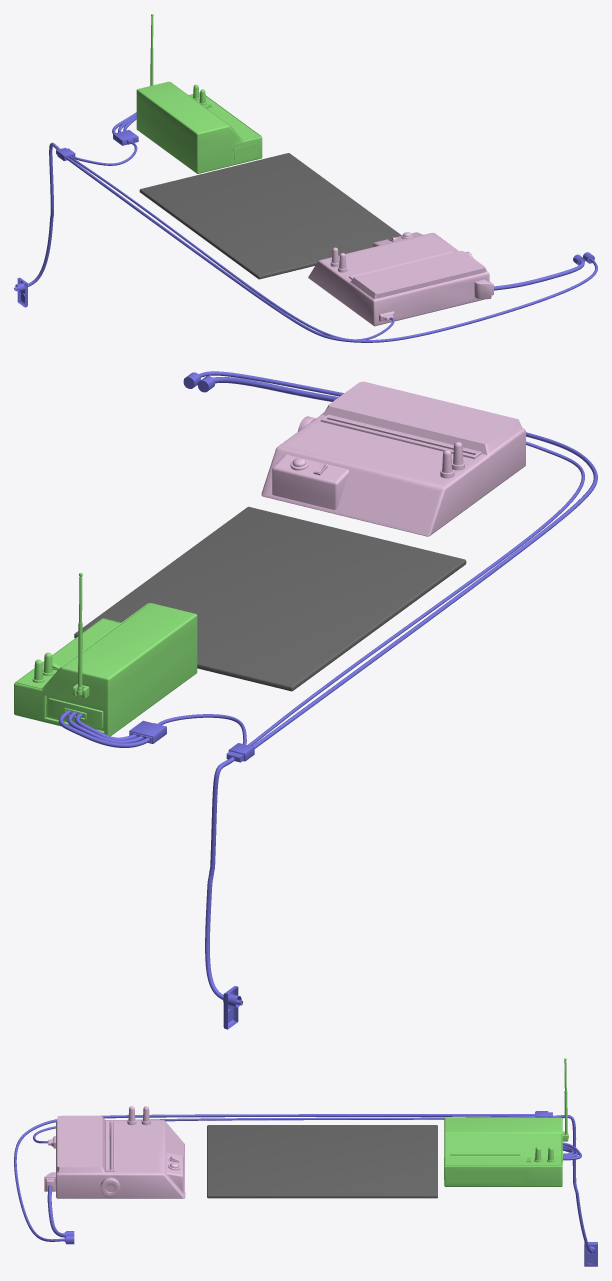
Rendered from ROOMSTATIONS.fbx.
3 views of the same model, one above another, from view 1: azimuth 30°, elevation 25°; view 2: azimuth 150°, elevation 25°; view 3: azimuth 270°, elevation 25° (orthographic). The views are drawn at different scales.
Parts seen in each view (by area): view 1: Cube.011, NurbsPath.003, NurbsPath.007, wires; view 2: Cube.011, NurbsPath.003, NurbsPath.007, wires; view 3: Cube.011, NurbsPath.003, NurbsPath.007, wires, Cube.018.
Part boxes in pixels (x1,y1,x2,y2): Cube.011: [139, 153, 401, 279]; NurbsPath.003: [308, 232, 493, 326]; NurbsPath.007: [136, 81, 262, 173]; wires: [14, 112, 597, 342]; Cube.011: [74, 506, 466, 691]; NurbsPath.003: [261, 381, 525, 536]; NurbsPath.007: [14, 603, 197, 736]; wires: [58, 371, 597, 1007]; Cube.011: [207, 1125, 437, 1198]; NurbsPath.003: [44, 1106, 185, 1198]; NurbsPath.007: [444, 1117, 568, 1186]; wires: [14, 1111, 595, 1253]; Cube.018: [584, 1242, 597, 1266].
Size of the model in its own units: 218 by 184 by 372.
